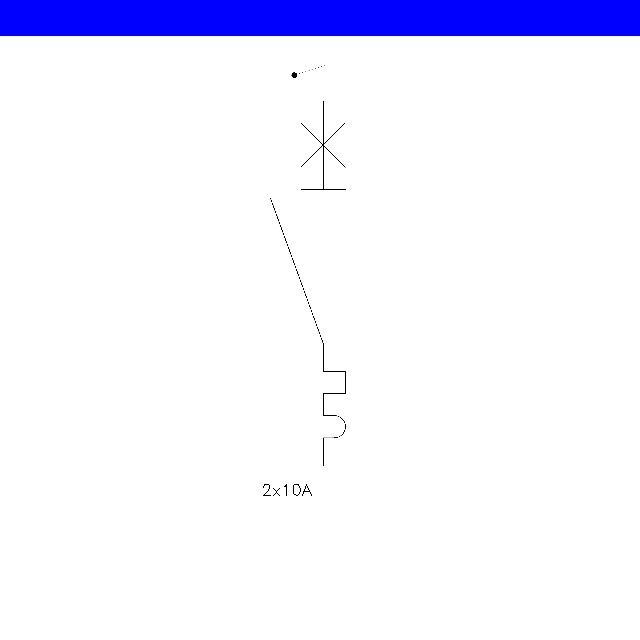interruptor_termomagnetico: (261, 91, 355, 474)
